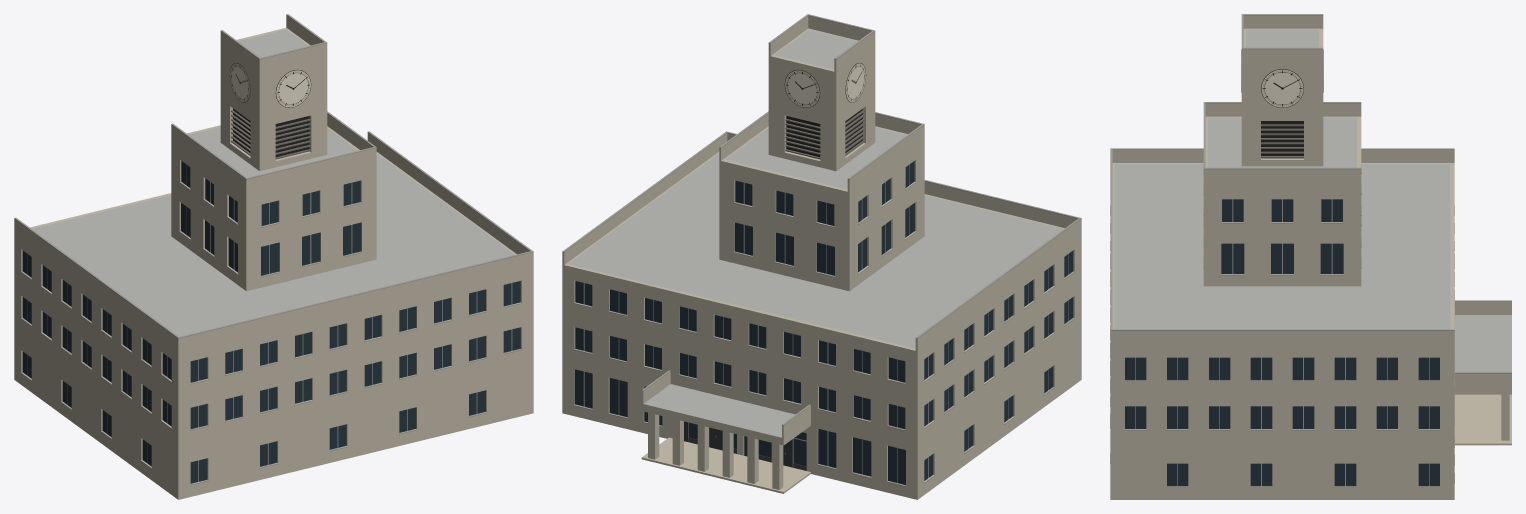
File: city_hall_tw1.glb
3 renders of one model, left to right at view 1: azimuth 30°, elevation 25°; view 2: azimuth 150°, elevation 25°; view 3: azimuth 270°, elevation 25°, orthographic. The views are drawn at different scales.
Visible parts, largest first — view 1: city_hall_tw1-col; view 2: city_hall_tw1-col; view 3: city_hall_tw1-col.
Boxes of the visible parts, box(x1,y1,x2,y2) form: city_hall_tw1-col: box(14, 14, 533, 499); city_hall_tw1-col: box(562, 14, 1081, 499); city_hall_tw1-col: box(1110, 14, 1511, 499).
Bounding box in the file's own units: 30.06 × 29.07 × 28.03.
Materials: 11 (1 with a texture image).
